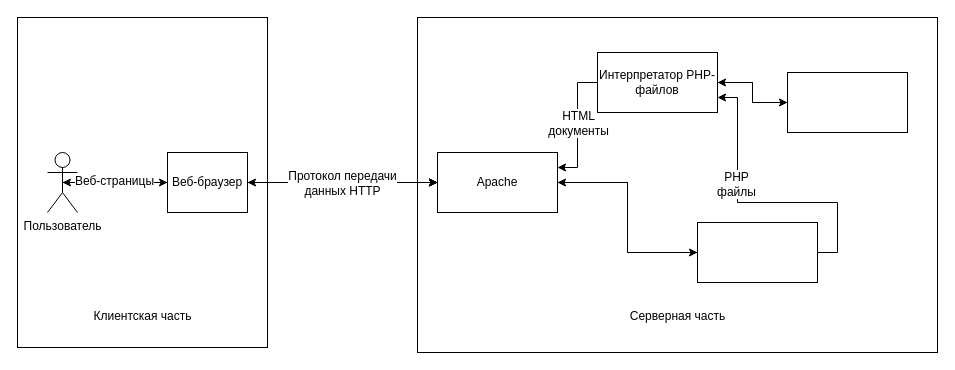
This 955x370 diagram has some shape labels left out. Each missing label, with the box of its shape:
База данных MySQL: (786, 72, 908, 132)
Файлы (HTML, CSS, PHP, медиа-файлы): (696, 222, 818, 282)
